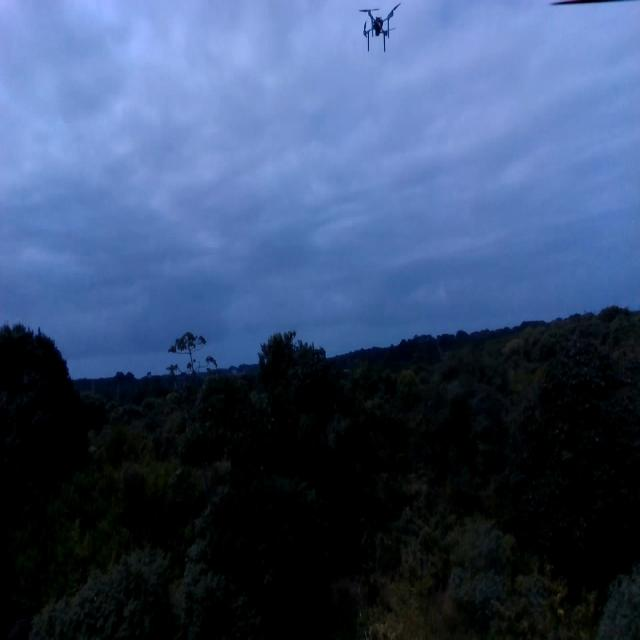-uav-: (354, 6, 409, 58)
